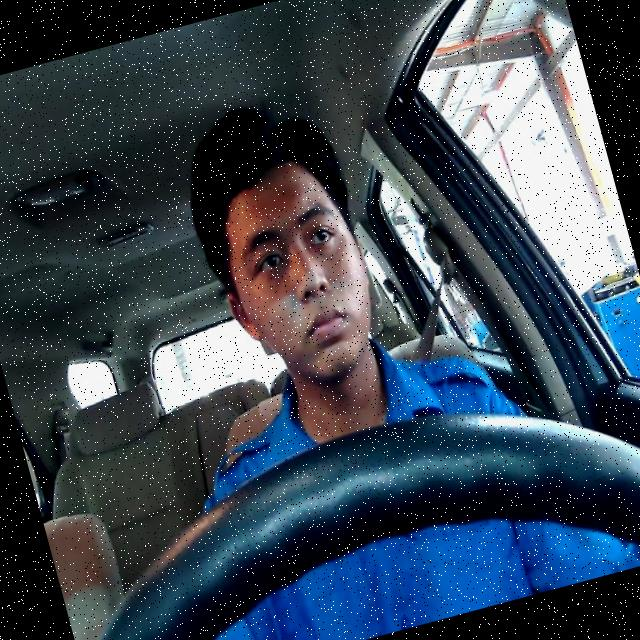focused: (196, 148, 391, 400)
